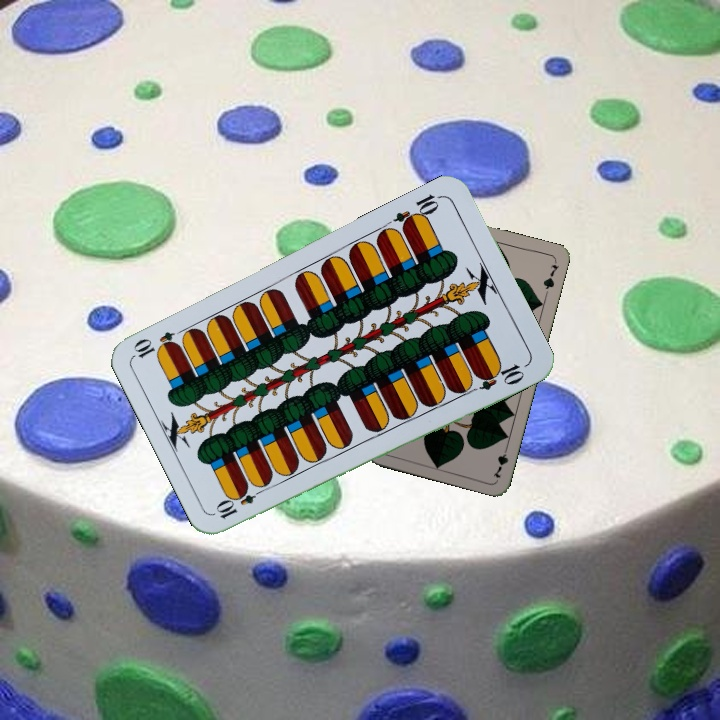E10: (390, 190, 445, 233), (212, 482, 268, 522)
G7: (489, 441, 511, 481)
